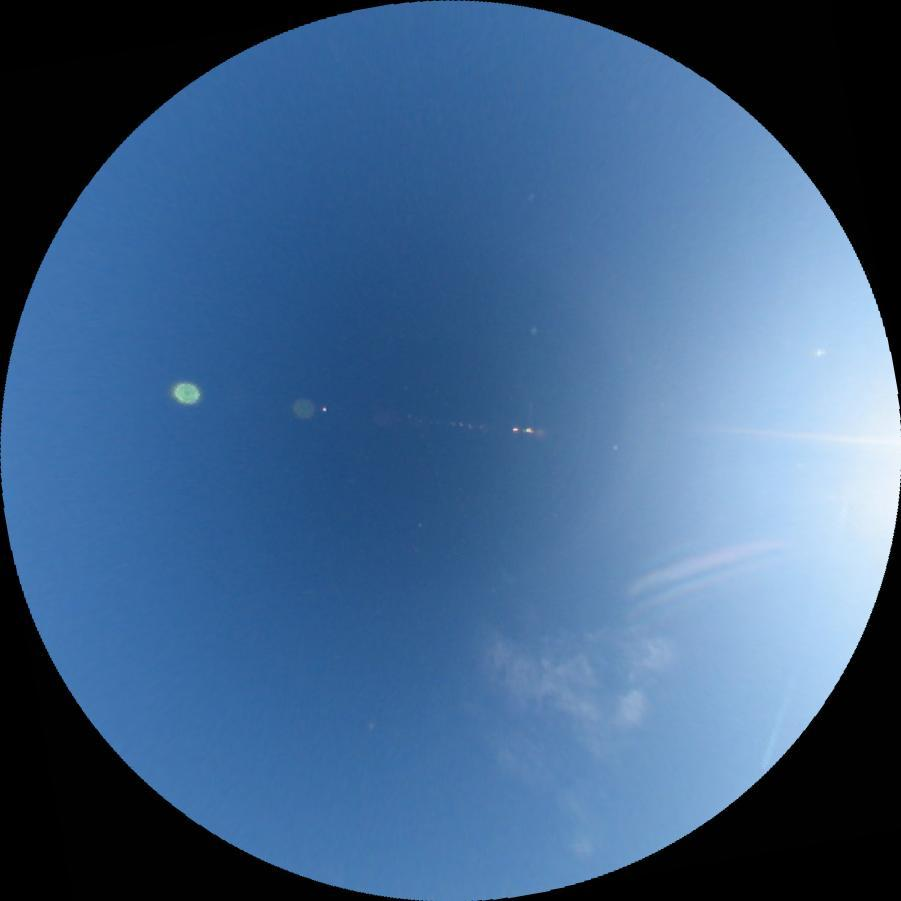contrail young: (757, 442, 868, 770)
parasite: (621, 526, 800, 597), (718, 425, 888, 445)
